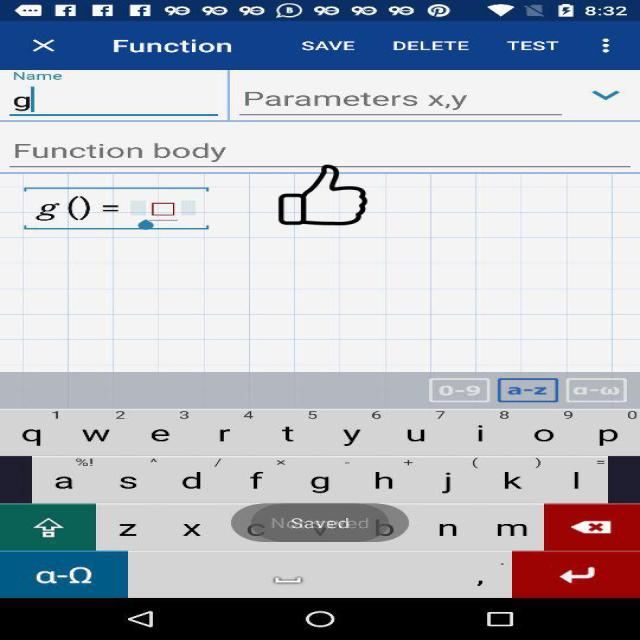privacy zuckering: (277, 165, 369, 225)
